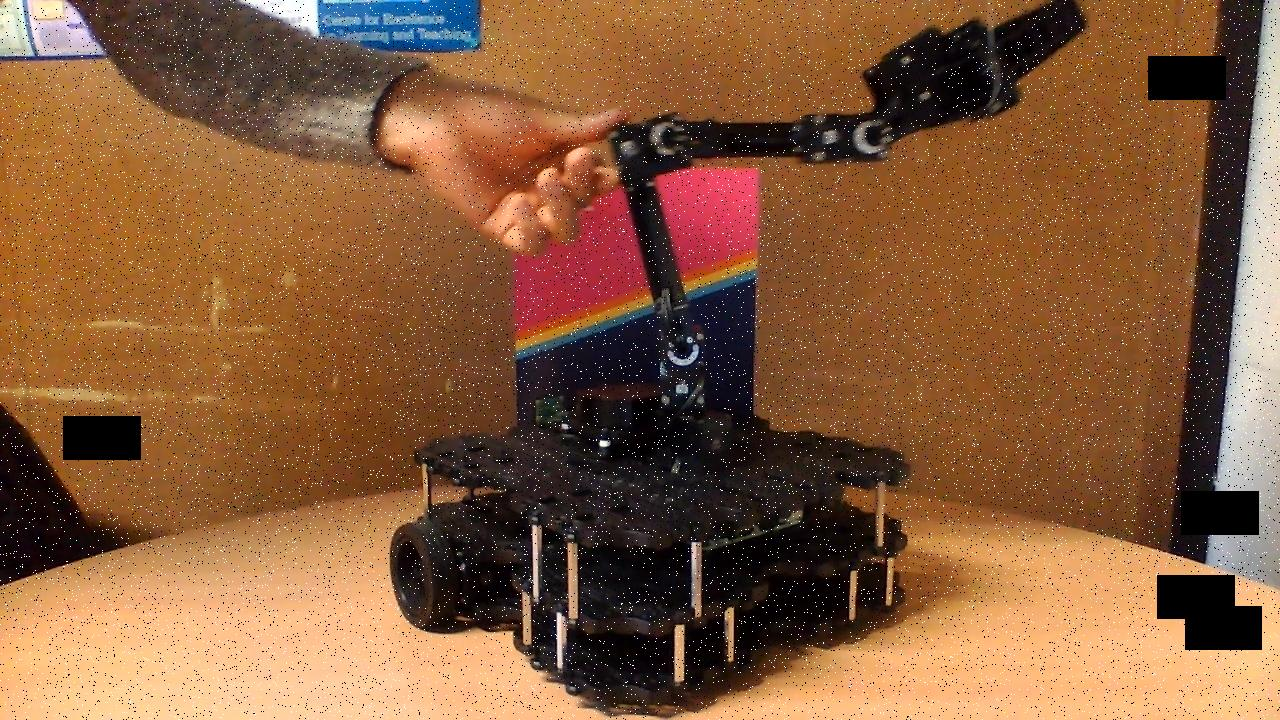Arm: (609, 122, 708, 376)
Hand: (853, 0, 1088, 160)
Wrist: (645, 111, 896, 172)
base: (386, 382, 913, 712)
